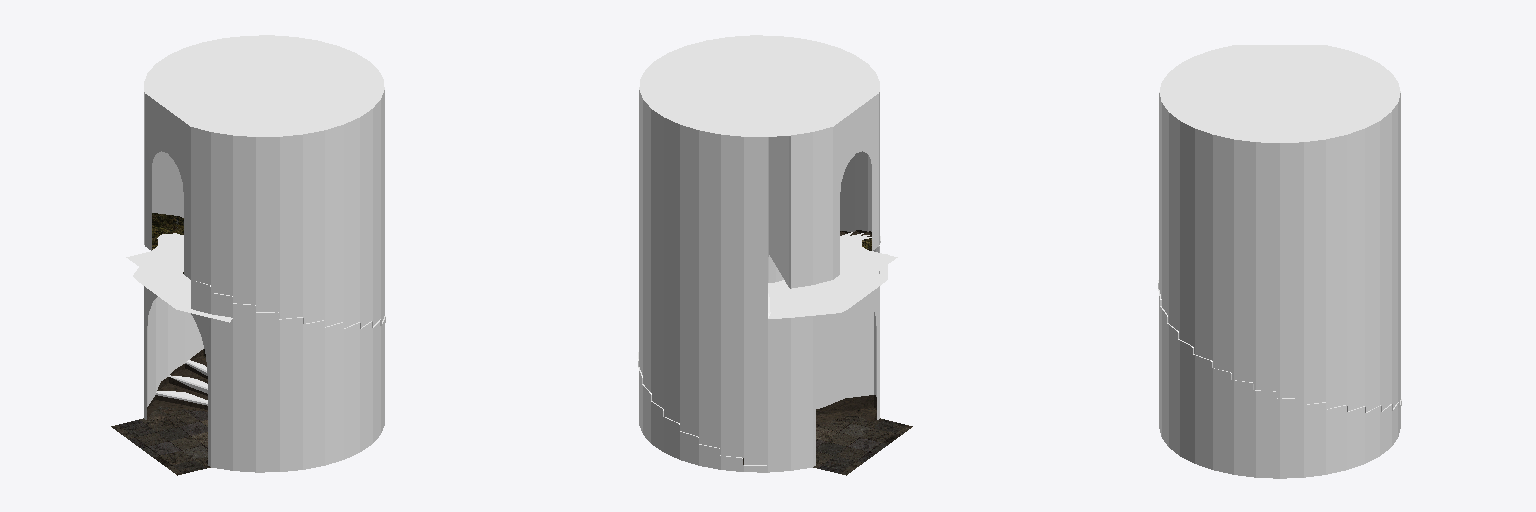
3 renders of one model, left to right at view 1: azimuth 30°, elevation 25°; view 2: azimuth 150°, elevation 25°; view 3: azimuth 270°, elevation 25°, orthographic.
Visible parts, largest first — view 1: mesh3, mesh5, mesh2, mesh1, mesh0, mesh4; view 2: mesh3, mesh5, mesh2, mesh1; view 3: mesh3.
Boxes of the visible parts, <box> form: mesh3: <box>133,35,384,472</box>; mesh5: <box>111,406,210,475</box>; mesh2: <box>126,233,183,280</box>; mesh1: <box>147,349,207,463</box>; mesh0: <box>156,281,385,405</box>; mesh4: <box>152,213,183,273</box>; mesh3: <box>639,35,887,472</box>; mesh5: <box>813,416,912,475</box>; mesh2: <box>840,244,897,280</box>; mesh1: <box>743,230,876,464</box>; mesh3: <box>1159,45,1400,478</box>.
Size of the model in its own units: 6.53 by 9.2 by 6.06.
6 materials, 3 textured.